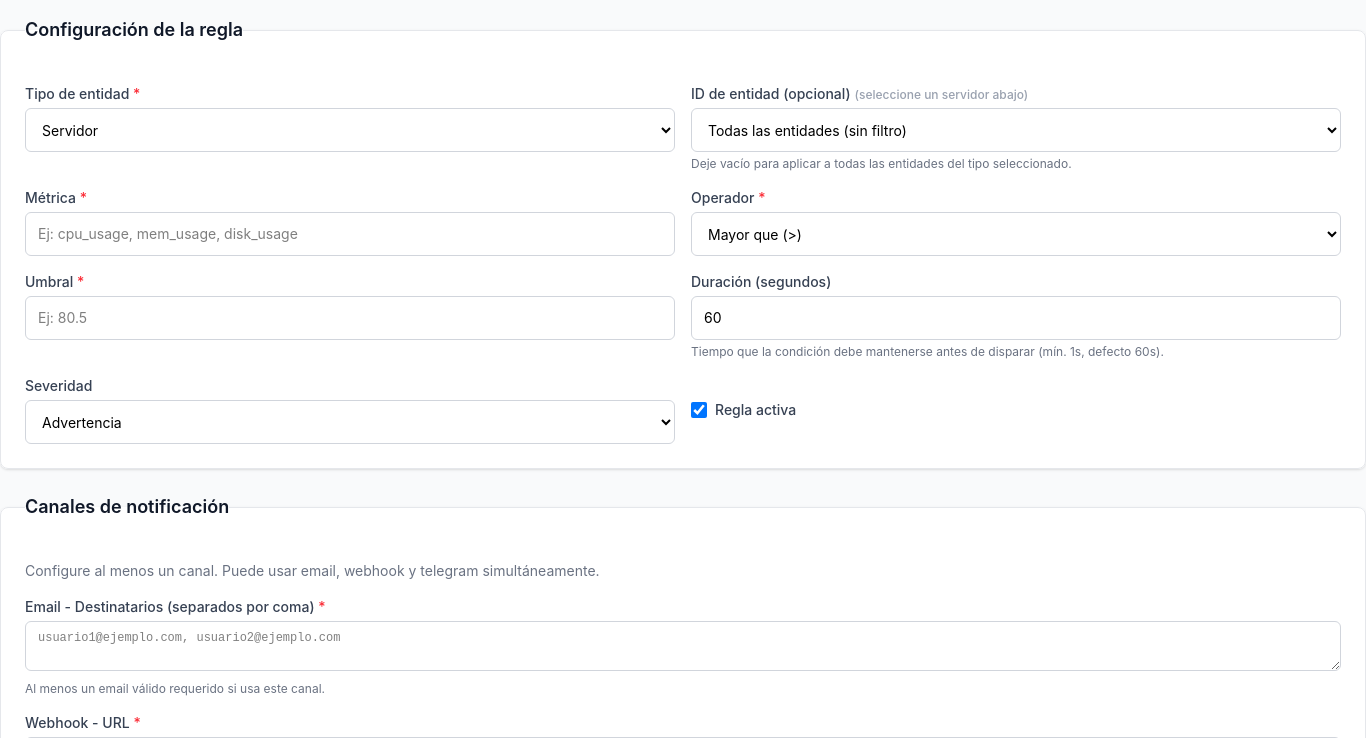
CreateRuleForm › shows text input for entity_id when entity_type is not server
// Change entity type to service
Select "Servicio" in the dropdown labelled "Tipo de entidad *": (350, 130) [25,108,675,152]
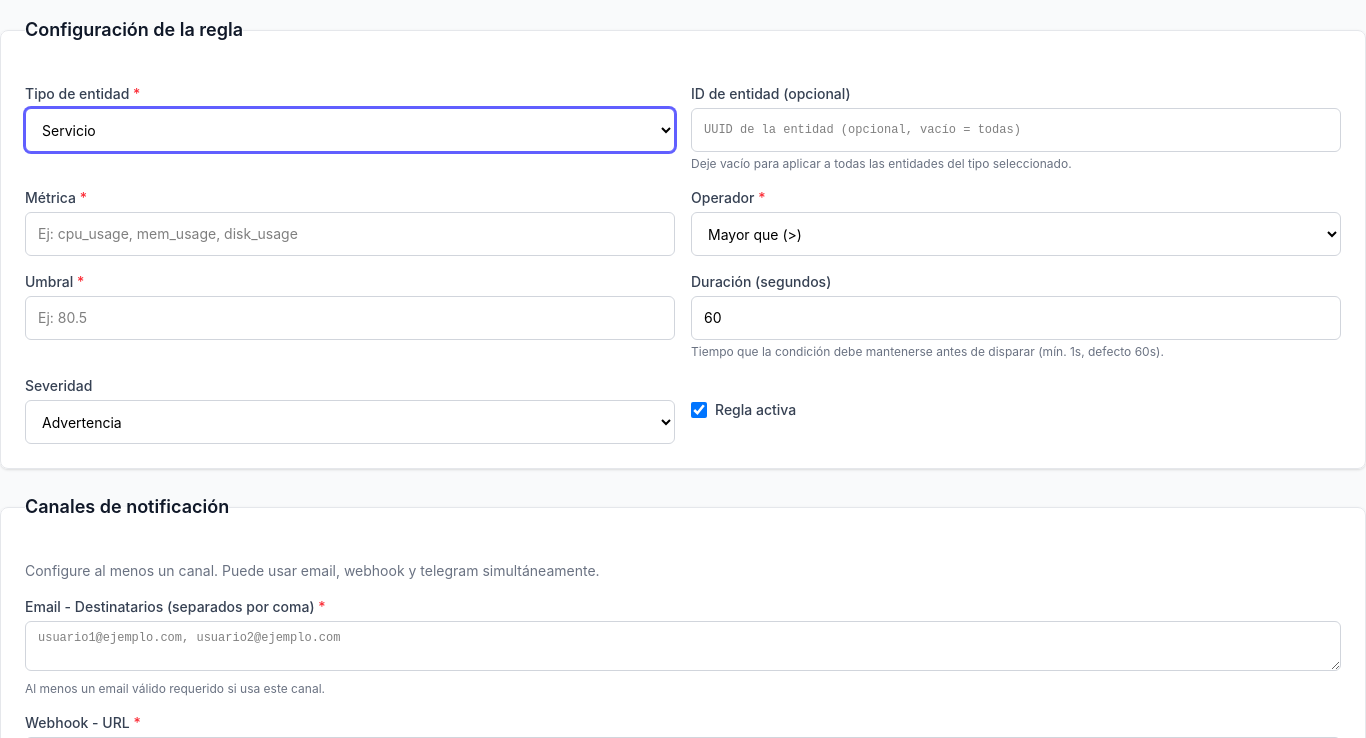
Expected: the field labelled "ID de entidad (opcional)" is shown, [691,108,1341,152]
